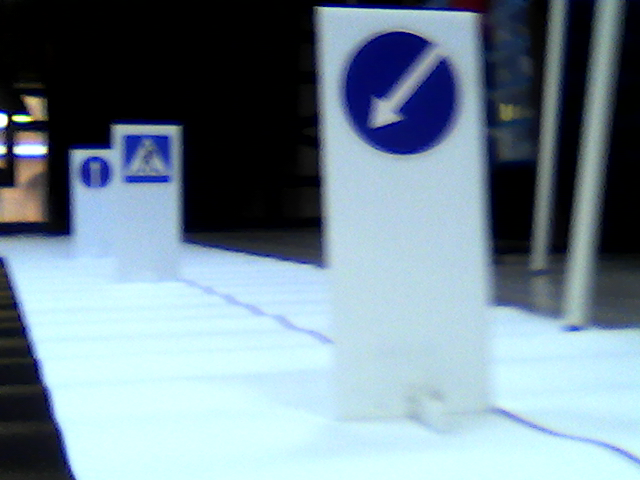pesh: (122, 135, 172, 184)
prep: (343, 28, 459, 155)
